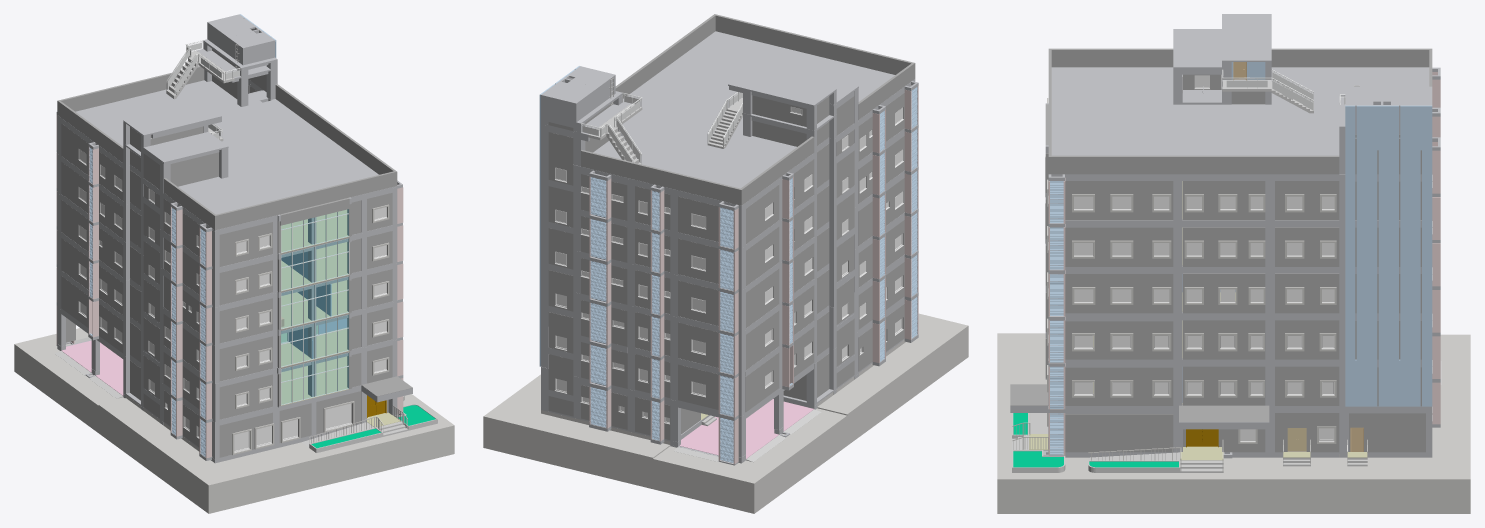
Rendered from building_real_draco.glb.
The picture shows the model from 3 angles, left to right: view 1: azimuth 30°, elevation 25°; view 2: azimuth 150°, elevation 25°; view 3: azimuth 270°, elevation 25°; orthographic projection. The views are drawn at different scales.
Parts seen in each view (by area): view 1: FL03_6, FL10_114, FL10_69, FL09_62, FL07_41, FL06_28, FL08_47, FL05_10, FL04_0, FL09_112, FL13_113, FL05_108 (+45 smaller); view 2: FL03_6, FL10_114, FL10_69, FL09_62, FL05_10, FL07_41, FL06_28, FL08_47, FL13_113, FL04_0, FL09_112, FL08_111 (+30 smaller); view 3: FL03_6, FL10_114, FL05_11, FL10_69, FL04_0, FL09_62, FL07_41, FL08_47, FL04_80, FL06_28, FL05_10, FL05_108 (+30 smaller).
Part boxes in pixels (x1,y1,x2,y2): FL03_6: [14, 328, 454, 513]; FL10_114: [56, 79, 402, 234]; FL10_69: [57, 49, 397, 230]; FL09_62: [61, 85, 392, 266]; FL07_41: [61, 200, 392, 343]; FL06_28: [61, 238, 392, 381]; FL08_47: [61, 162, 392, 305]; FL05_10: [61, 276, 392, 419]; FL04_0: [66, 318, 388, 457]; FL09_112: [56, 43, 402, 272]; FL13_113: [123, 14, 277, 404]; FL05_108: [56, 269, 412, 425]; FL03_6: [483, 313, 968, 513]; FL10_114: [573, 31, 918, 210]; FL10_69: [581, 14, 915, 205]; FL09_62: [548, 93, 904, 243]; FL05_10: [548, 262, 904, 411]; FL07_41: [548, 178, 904, 327]; FL06_28: [548, 220, 904, 369]; FL08_47: [548, 136, 904, 285]; FL13_113: [541, 66, 854, 401]; FL04_0: [548, 304, 904, 439]; FL09_112: [541, 80, 918, 252]; FL08_111: [541, 163, 918, 294]; FL03_6: [997, 333, 1470, 513]; FL10_114: [1045, 62, 1440, 181]; FL05_11: [1050, 105, 1432, 408]; FL10_69: [1048, 48, 1432, 174]; FL04_0: [1058, 413, 1425, 452]; FL09_62: [1045, 74, 1421, 220]; FL07_41: [1045, 203, 1421, 313]; FL08_47: [1045, 157, 1421, 266]; FL04_80: [1023, 98, 1367, 456]; FL06_28: [1045, 292, 1421, 359]; FL05_10: [1045, 338, 1421, 405]; FL05_108: [1010, 343, 1440, 429].
Size of the model in its own units: 27 by 33.35 by 37.
